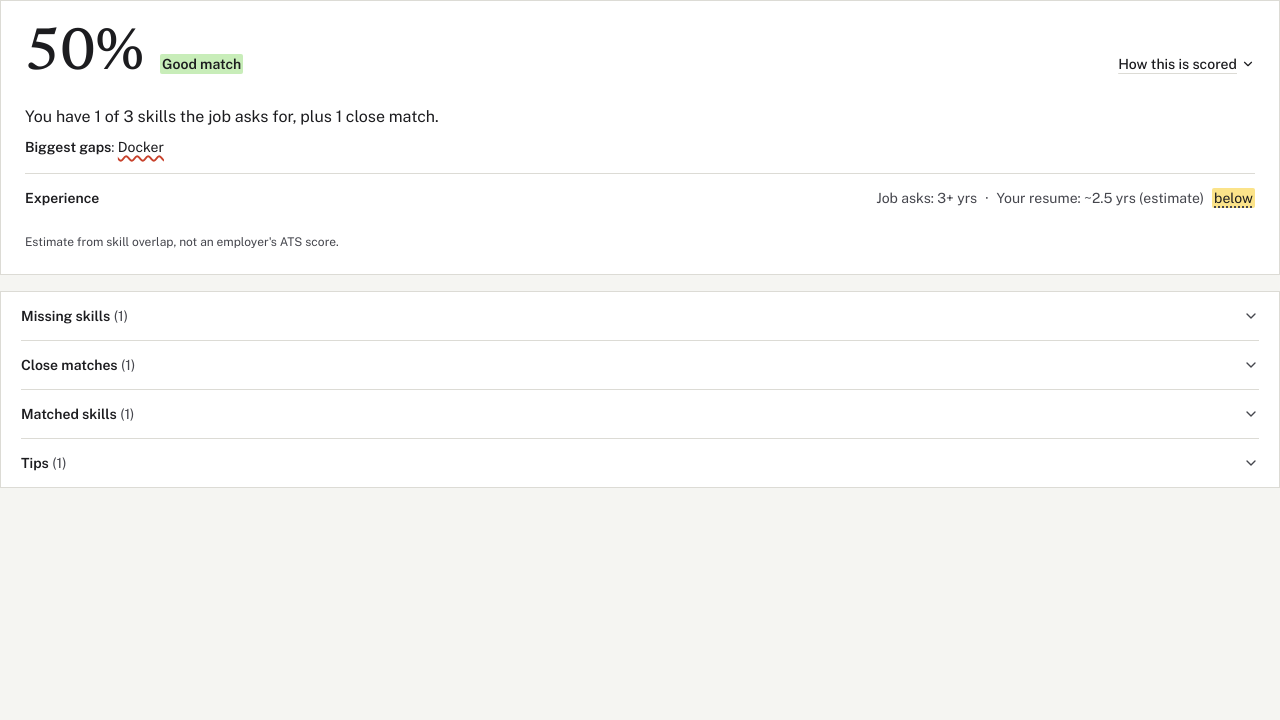
breakdown adds up and follows what-if marks
What coordinates should you click on to do the following:
click the button "How this is scored"
I would click on:
 (1187, 64)
Its box is left=1118, top=54, right=1255, bottom=74.
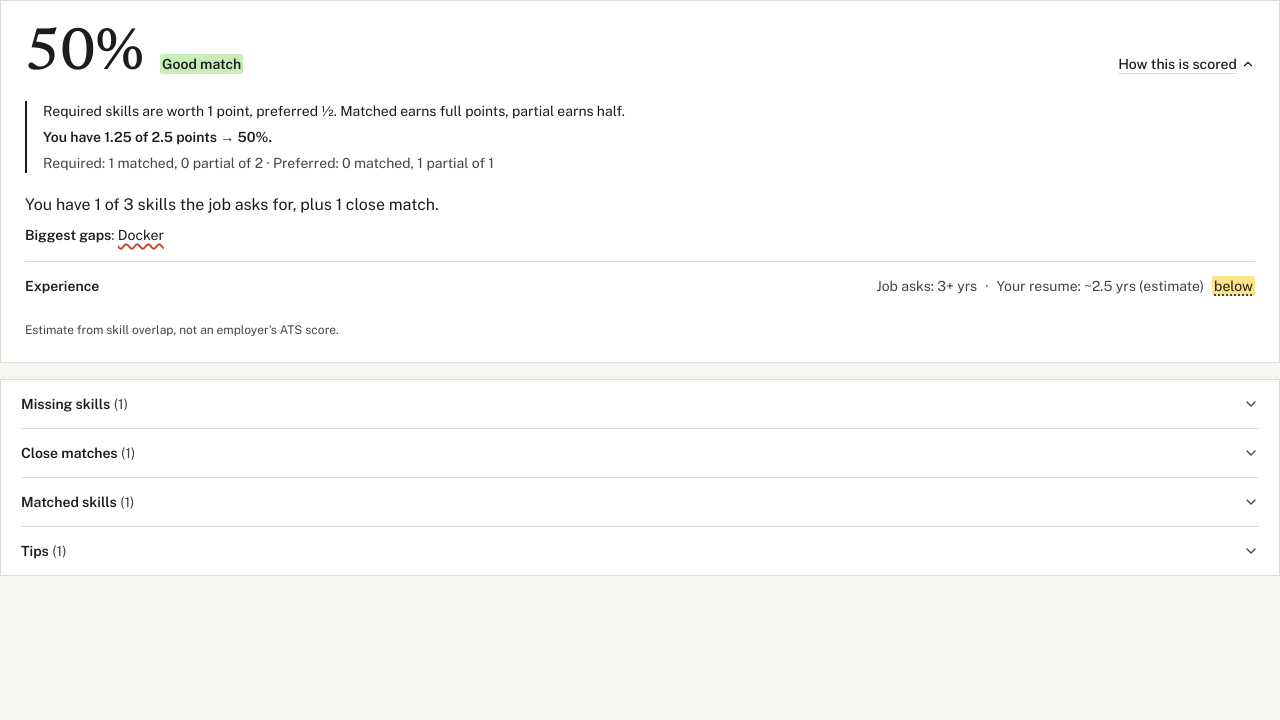
Now the text "You have 1.25 of 2.5 points → 50%." is shown, box left=43, top=129, right=272, bottom=145
Now the text "Required: 1 matched, 0 partial of 2 · Preferred: 0 matched, 1 partial of 1" is shown, box left=43, top=155, right=494, bottom=171
What coordinates should you click on to do the following:
click the button "Missing skills (1)"
I would click on:
 (66, 404)
Its box is left=21, top=380, right=1259, bottom=428.
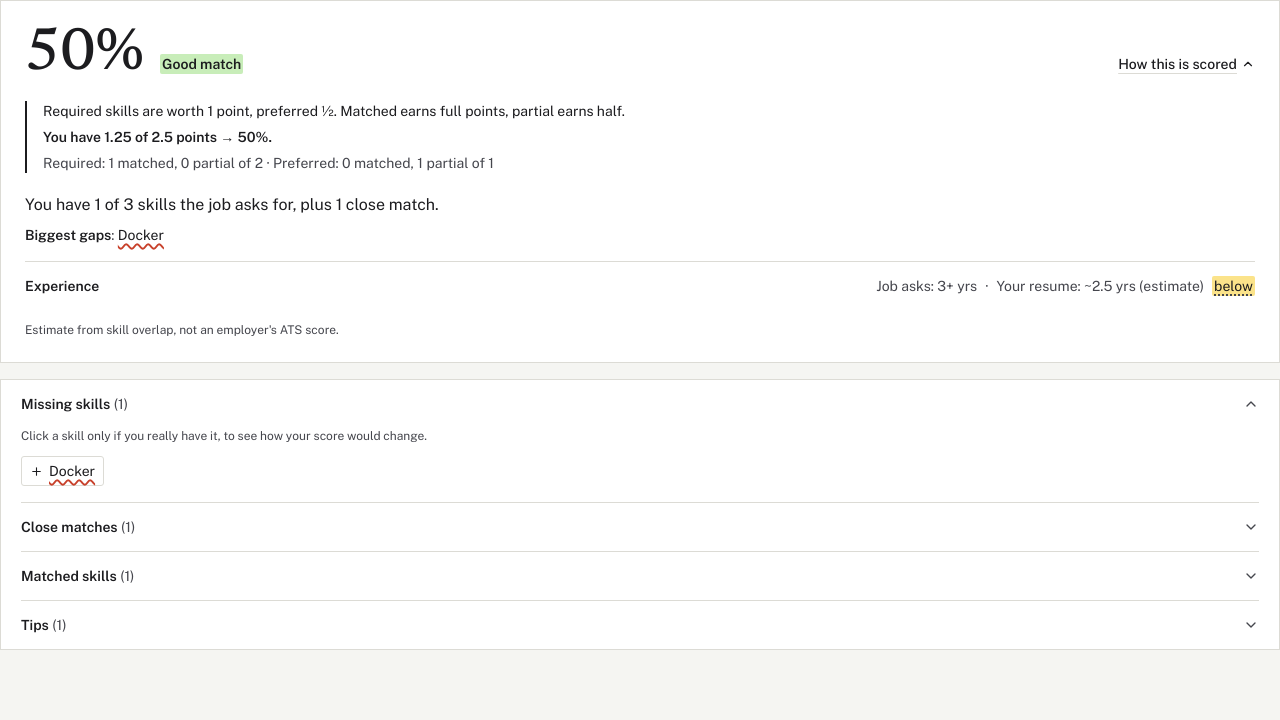
What coordinates should you click on to do the following:
click the button "Docker"
I would click on:
 (63, 471)
Its box is left=21, top=456, right=104, bottom=486.
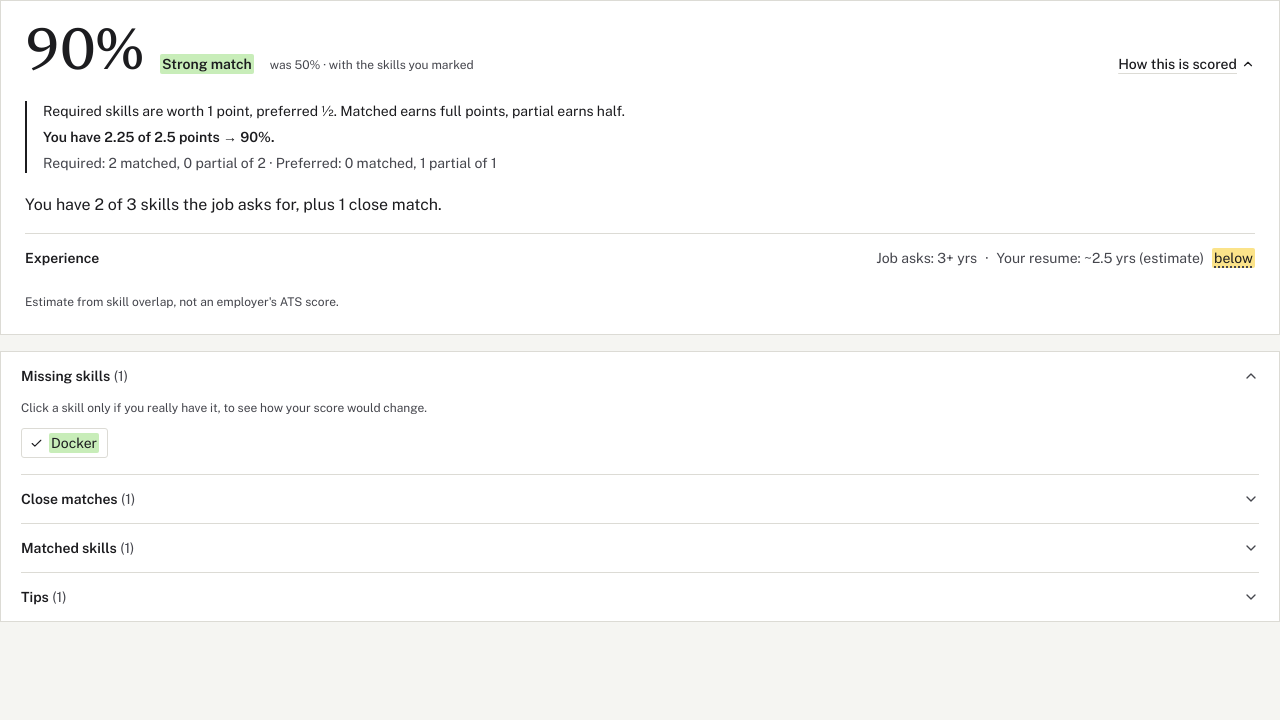
Now the text "You have 2.25 of 2.5 points → 90%." is shown, box left=43, top=129, right=274, bottom=145
Now the text "Strong match" is shown, box left=160, top=54, right=254, bottom=74
